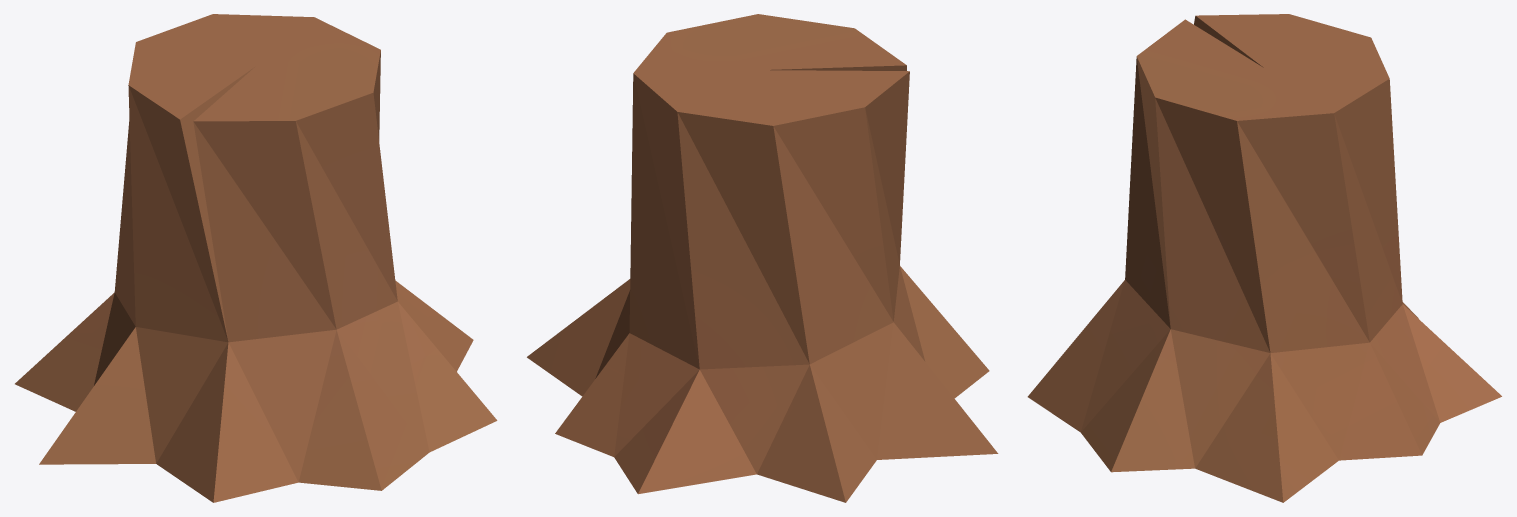
Rendered from stump2.fbx.
The picture shows the model from 3 angles, left to right: view 1: azimuth 30°, elevation 25°; view 2: azimuth 150°, elevation 25°; view 3: azimuth 270°, elevation 25°; orthographic projection. The views are drawn at different scales.
Visible parts, largest first — view 1: stump; view 2: stump; view 3: stump.
Boxes of the visible parts, box(x1,y1,x2,y2) form: stump: box(15, 14, 497, 502); stump: box(527, 14, 998, 502); stump: box(1027, 14, 1501, 502).
Bounding box in the file's own units: 106 × 78.63 × 99.14.
1 material, 1 textured.
